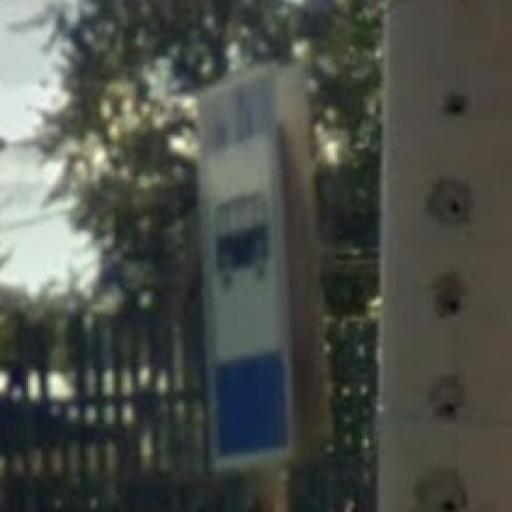traffic_sign: (195, 61, 299, 474)
